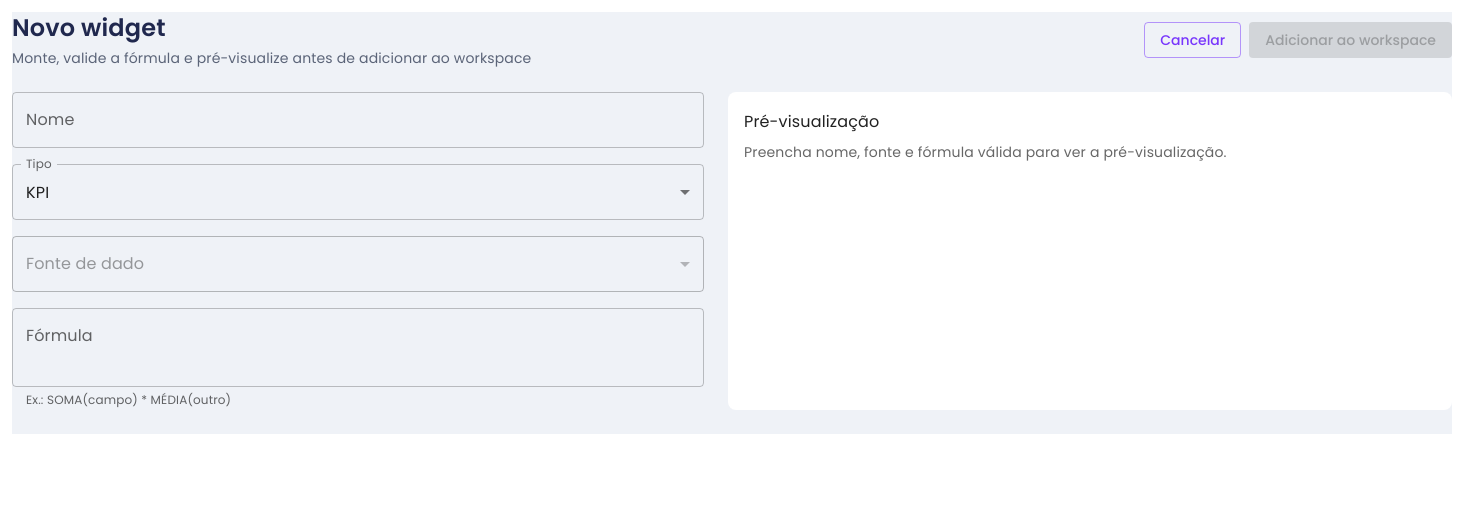
Test: WidgetBuilderPage › shows inline formula error before submit (WKS2-18)
Type "SOMA(x)" into the text box labelled "Fórmula" at (358, 348), box [26,324,690,370]
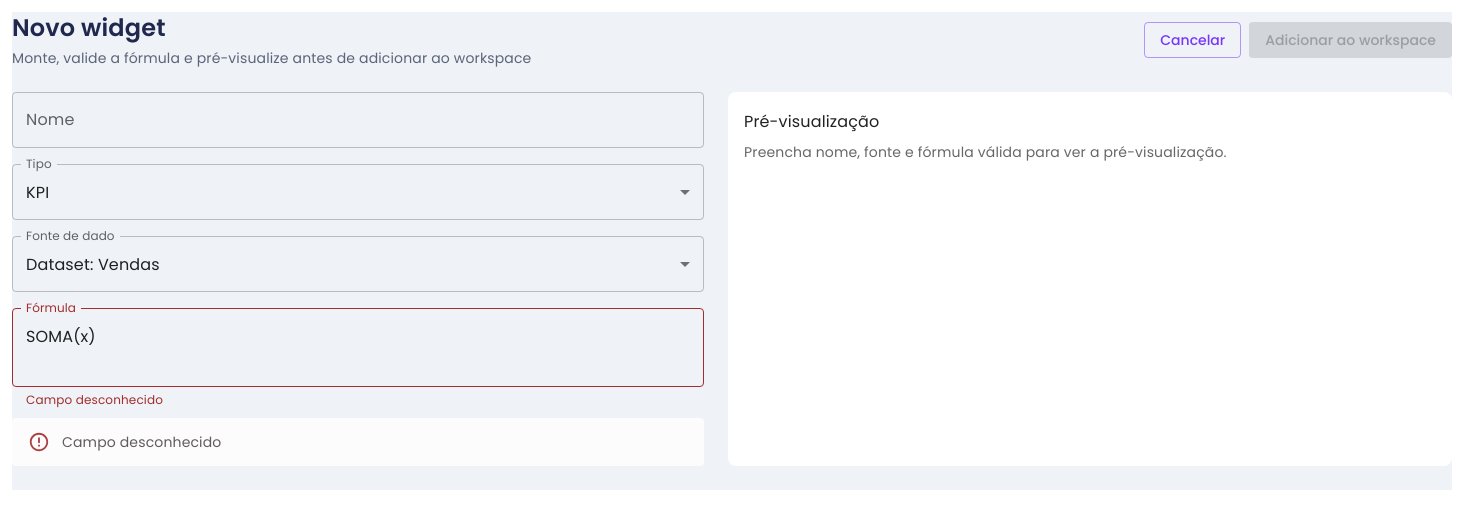
Expected: the message "Campo desconhecido" is shown, [12,418,704,466]
